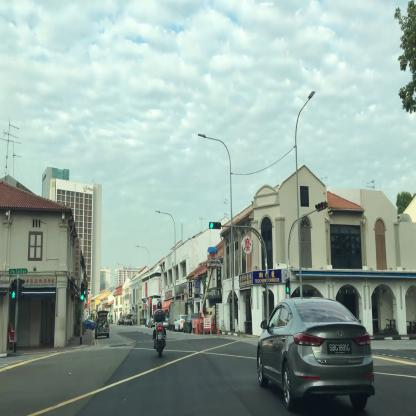green_traffic_light: (209, 222, 221, 229), (80, 284, 83, 300)
